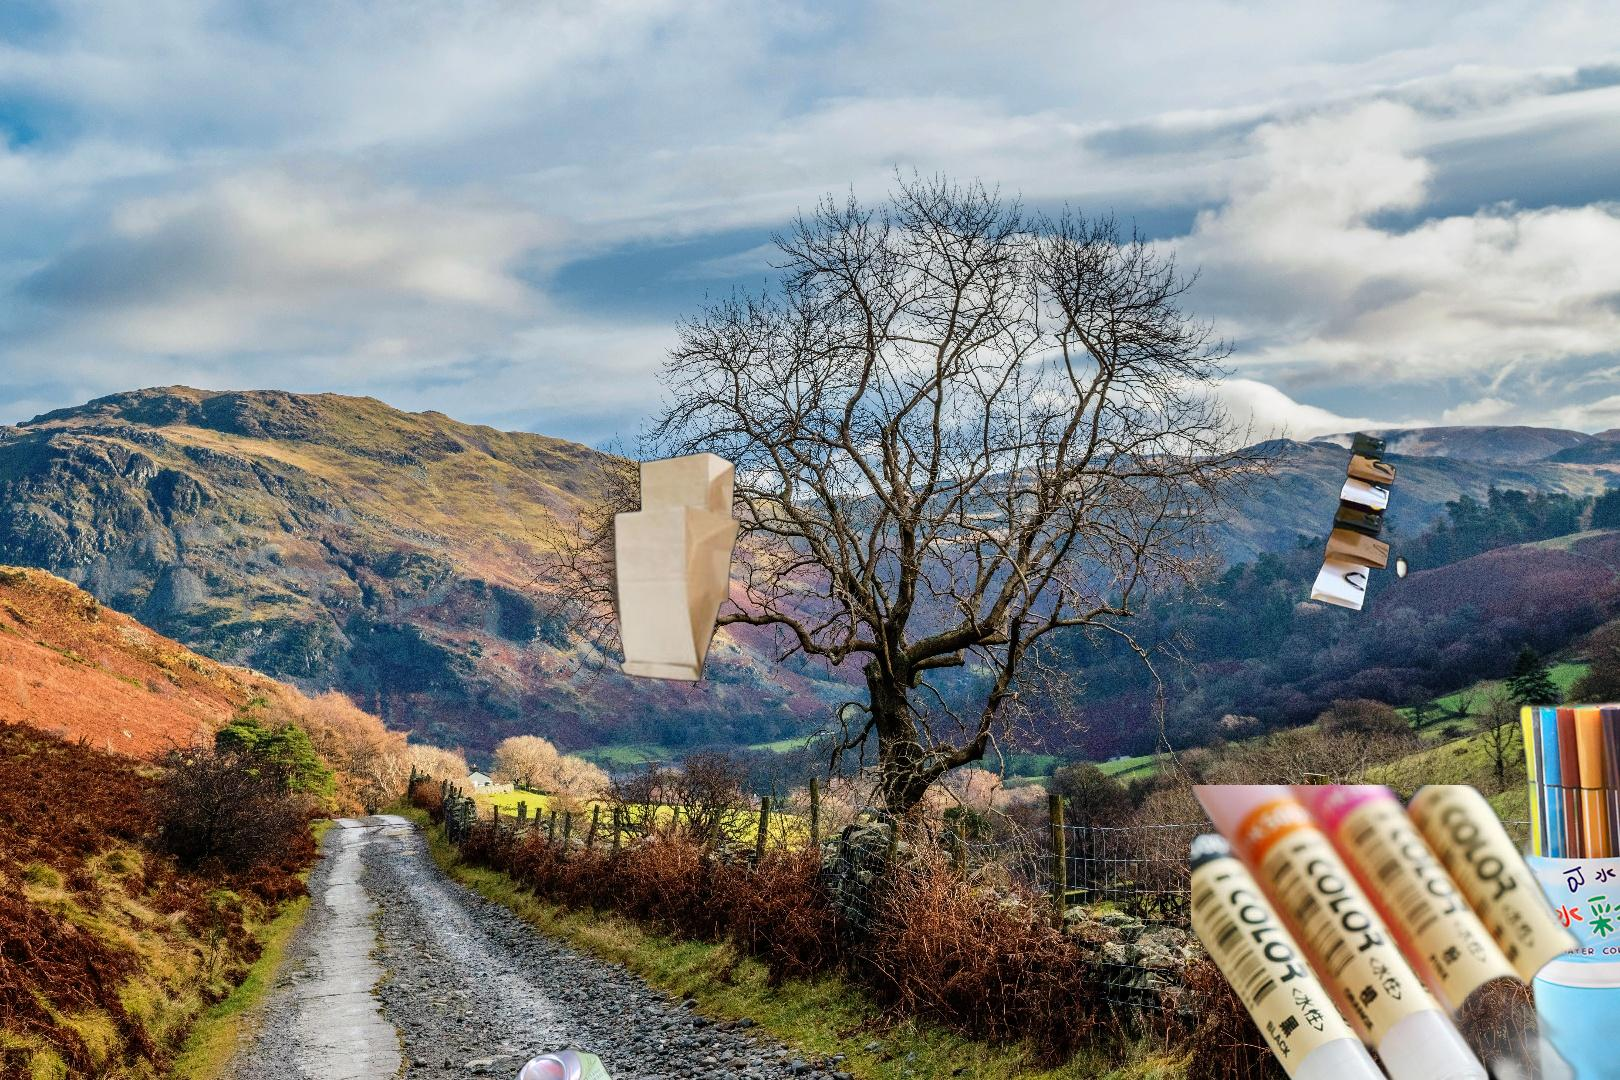metal-cans: (495, 1044, 624, 1080)
paper-bag: (530, 394, 744, 685), (1308, 432, 1411, 612)
penholder: (1191, 785, 1620, 1080), (1512, 683, 1620, 1080), (1609, 738, 1620, 1080)
